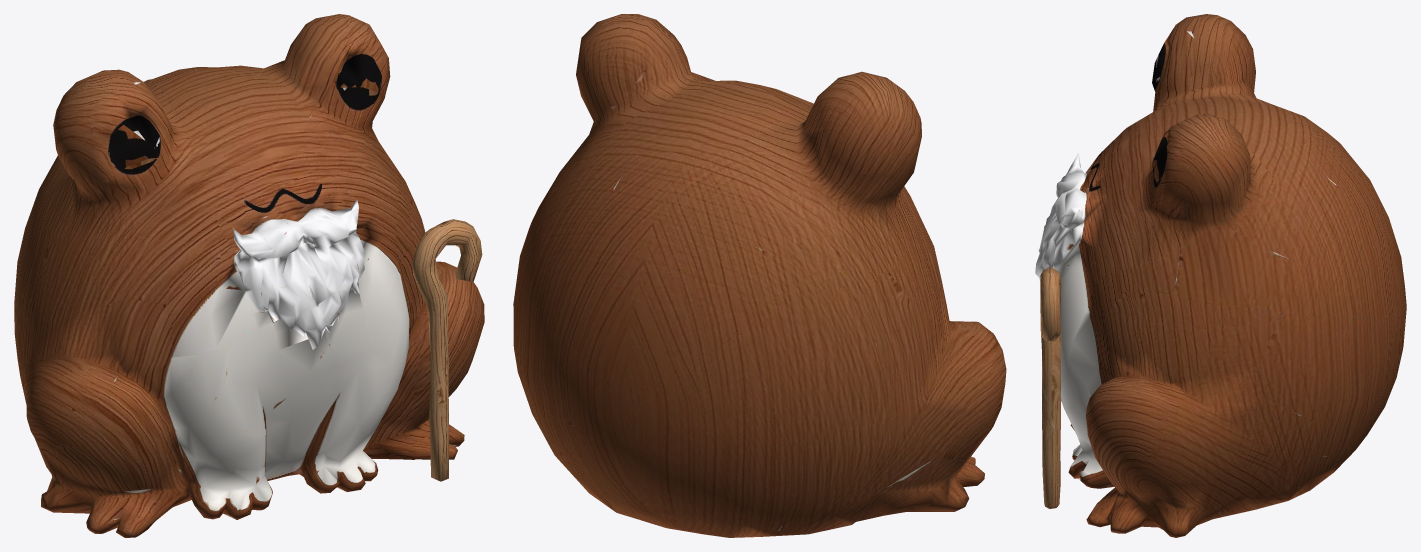
The model's file is noe.glb.
3 views of the same model, side by side, from view 1: azimuth 30°, elevation 25°; view 2: azimuth 150°, elevation 25°; view 3: azimuth 270°, elevation 25° (orthographic). The views are drawn at different scales.
Parts seen in each view (by area): view 1: mesh_node; view 2: mesh_node; view 3: mesh_node.
Boxes of the visible parts, x1,y1,x2,y2 form: mesh_node: (14,14,484,537); mesh_node: (513,14,1006,537); mesh_node: (1035,14,1406,537).
Size of the model in its own units: 1.9 by 1.69 by 1.49.
Materials: 1 (1 with a texture image).
